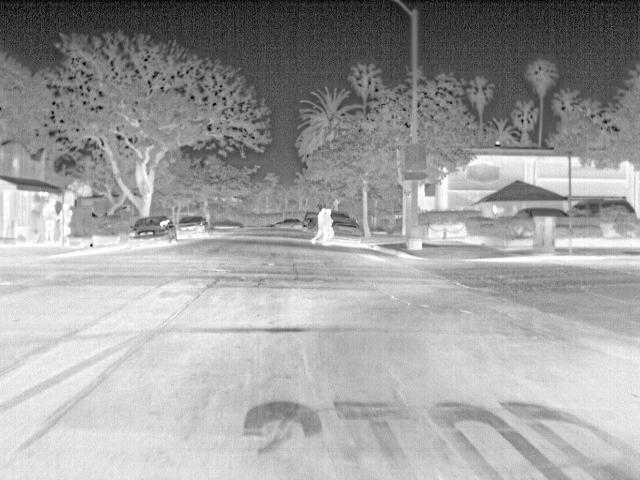car: (566, 194, 633, 218), (125, 216, 178, 246), (500, 206, 569, 222), (172, 216, 210, 234), (330, 220, 363, 240)
person: (41, 197, 61, 244), (308, 206, 328, 244), (323, 207, 335, 248), (63, 202, 75, 240)
